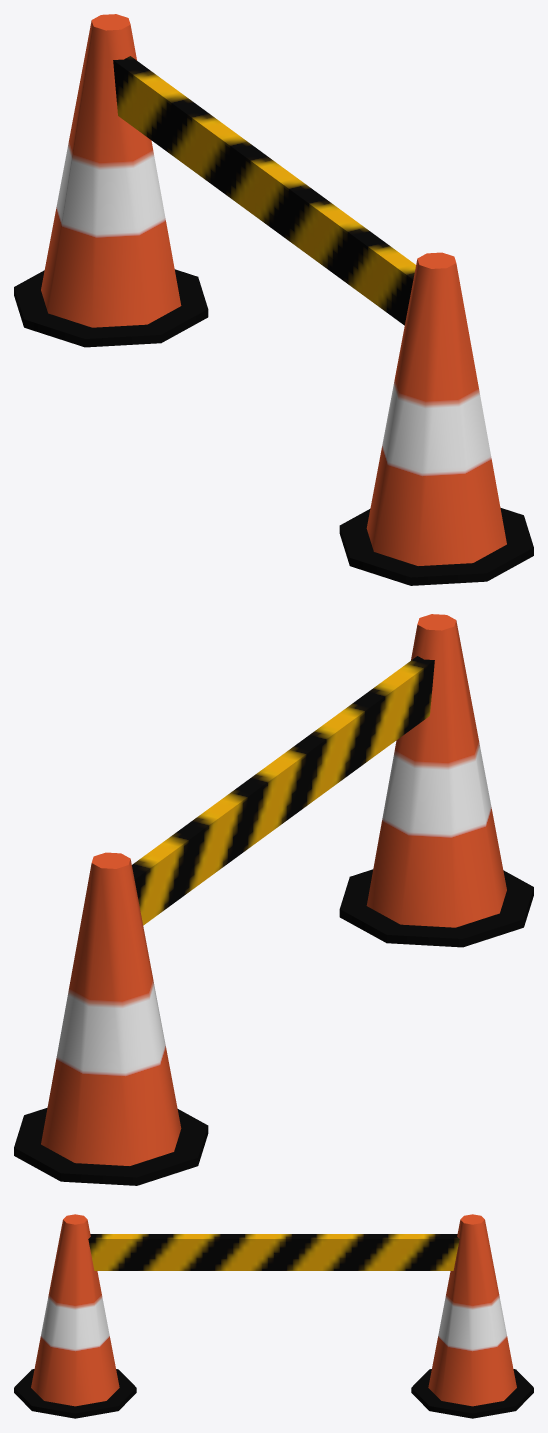
The model's file is traffic_cone.fbx.
3 views of the same model, one above another, from view 1: azimuth 30°, elevation 25°; view 2: azimuth 150°, elevation 25°; view 3: azimuth 270°, elevation 25° (orthographic). The views are drawn at different scales.
Parts seen in each view (by area): view 1: traffic_cone; view 2: traffic_cone; view 3: traffic_cone.
Boxes of the visible parts, x1,y1,x2,y2 form: traffic_cone: (14, 14, 533, 585); traffic_cone: (14, 614, 533, 1185); traffic_cone: (14, 1214, 533, 1418).
Bounding box in the file's own units: 35.56 × 55.43 × 151.
Materials: 1 (1 with a texture image).
